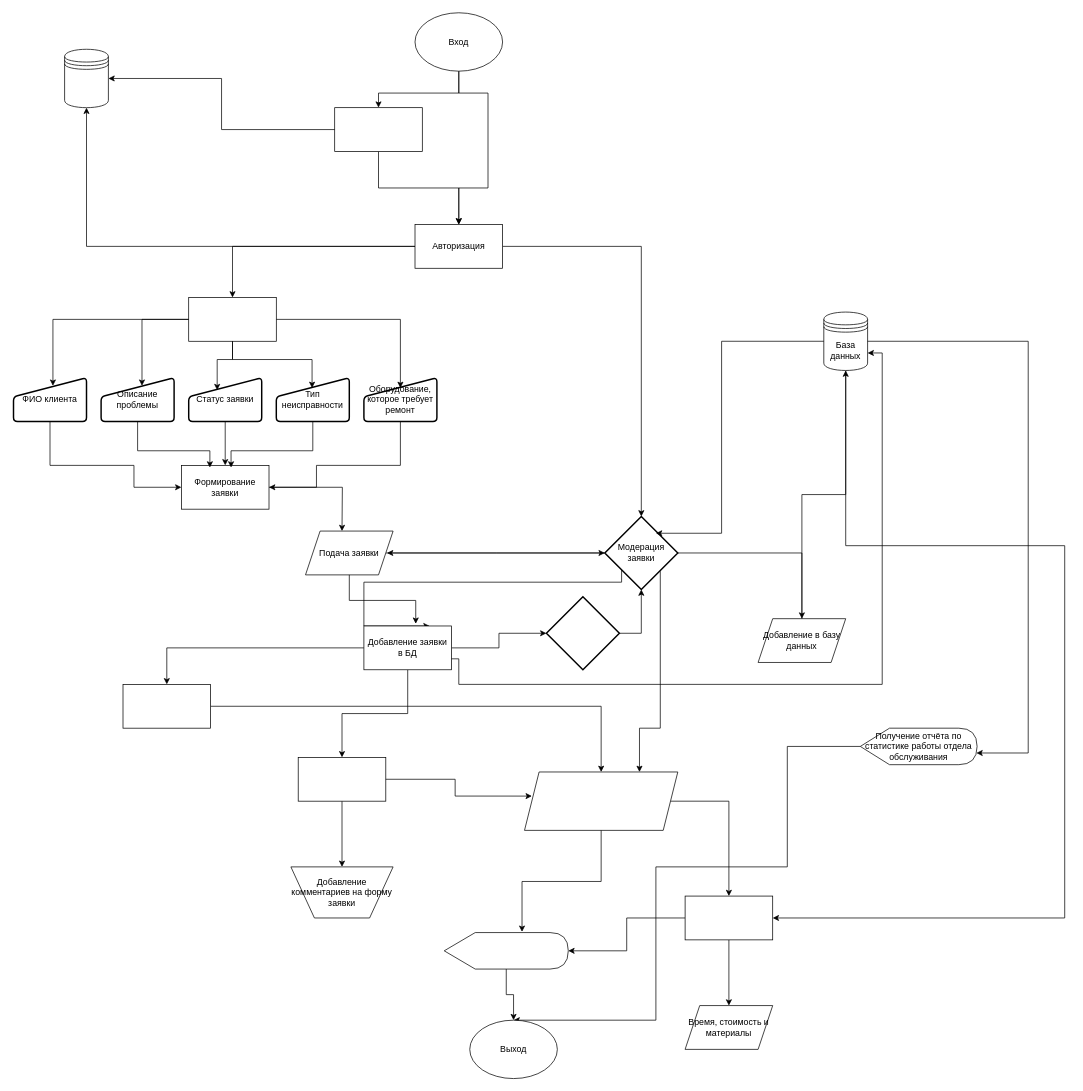
Some shapes in this 1083 by 1091 pixel diagram are drawn without their labels. The shapes that lost their labels are listed below. From the top down, each one's box as (x1, y1, x2, y2) in pixels, then its label:
(64, 49, 108, 108): БД пользователей
(334, 107, 422, 151): Регистрация
(188, 297, 276, 341): Добавление заявки
(545, 596, 620, 670): Возможность редактирования заявки
(122, 684, 211, 728): Отслеживание статуса заявки
(297, 757, 386, 801): Назначение ответственных за выполнение работы
(524, 771, 678, 830): Отслеживание состояния работы и получение уведомлений о её завершении
(684, 895, 773, 940): Затраченные ресурсы
(443, 932, 568, 969): Формирование отчёта по проделанной работе
